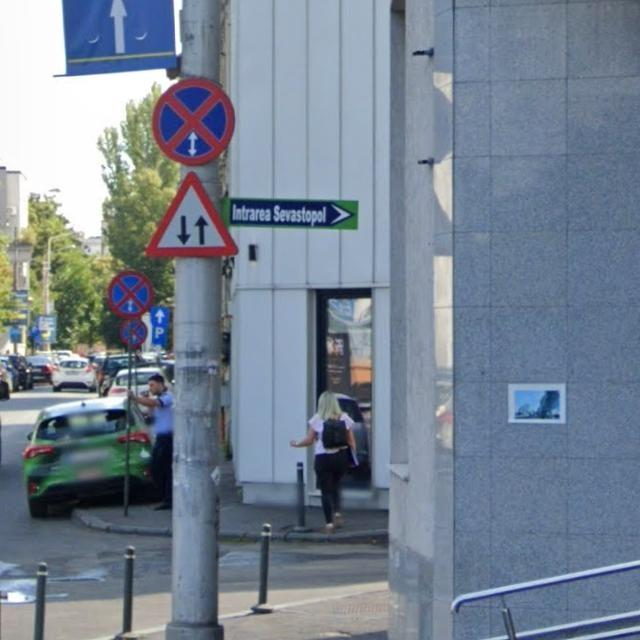forb_waiting: (151, 79, 237, 167), (107, 270, 153, 318), (120, 319, 148, 348)
